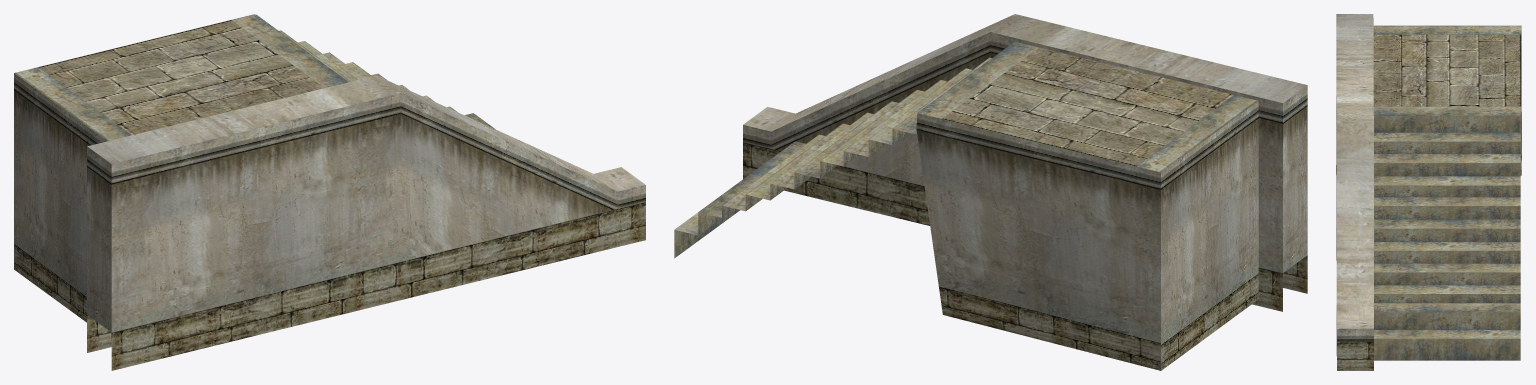
Rendered from rd_sta2.glb.
3 renders of one model, left to right at view 1: azimuth 30°, elevation 25°; view 2: azimuth 150°, elevation 25°; view 3: azimuth 270°, elevation 25°, orthographic. The views are drawn at different scales.
Parts seen in each view (by area): view 1: rd_sta2-col; view 2: rd_sta2-col; view 3: rd_sta2-col.
Part boxes in pixels (x1,y1,x2,y2): rd_sta2-col: (14,14,645,370); rd_sta2-col: (674,14,1307,370); rd_sta2-col: (1336,14,1521,370).
Bounding box in the file's own units: 8.86 × 3.28 × 3.49.
Materials: 2 (2 with a texture image).
